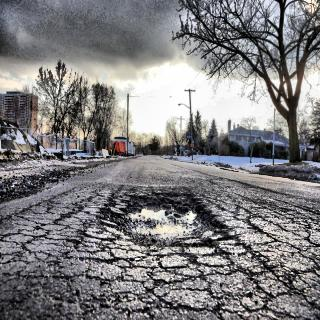alligator-crack: (100, 254, 290, 314)
pothole: (101, 183, 230, 248)
